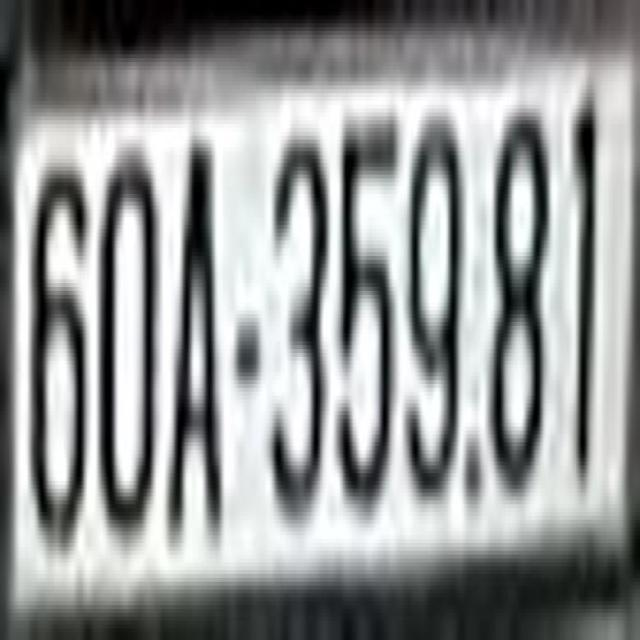0: (98, 148, 160, 540)
1: (561, 86, 604, 500)
3: (268, 132, 331, 543)
5: (337, 109, 397, 528)
6: (28, 144, 88, 566)
8: (486, 89, 550, 520)
9: (401, 108, 461, 516)
A: (167, 132, 226, 543)
